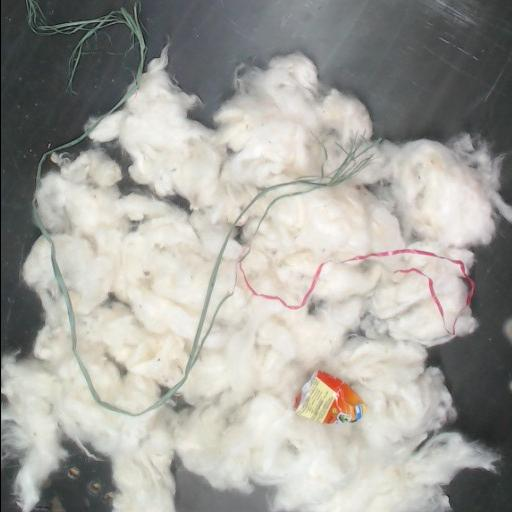conveyor belt: (1, 0, 138, 354), (429, 222, 512, 511), (34, 446, 112, 511), (178, 470, 267, 511), (1, 461, 17, 511)
cotton: (1, 49, 512, 511)
packet: (296, 371, 364, 423)
thread: (136, 0, 512, 151), (35, 206, 233, 417), (36, 6, 146, 183), (234, 143, 375, 230), (341, 249, 473, 303), (249, 264, 322, 309), (400, 268, 444, 323), (26, 0, 38, 23)
